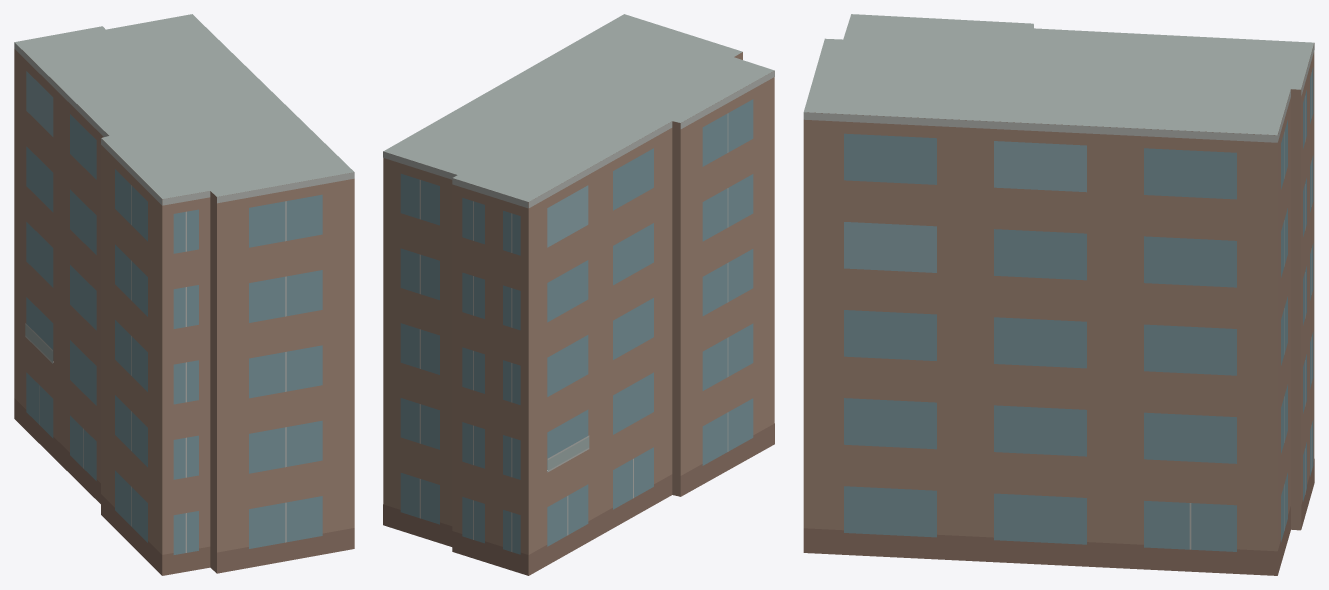
The model's file is survey-upis-32724125.glb.
3 renders of one model, left to right at view 1: azimuth 30°, elevation 25°; view 2: azimuth 150°, elevation 25°; view 3: azimuth 270°, elevation 25°, orthographic. The views are drawn at different scales.
Visible parts, largest first — view 1: survey-upis-32724125.tmp; view 2: survey-upis-32724125.tmp; view 3: survey-upis-32724125.tmp.
Boxes of the visible parts, bbox=[...] form: survey-upis-32724125.tmp: bbox=[14, 14, 354, 575]; survey-upis-32724125.tmp: bbox=[383, 14, 774, 575]; survey-upis-32724125.tmp: bbox=[803, 14, 1314, 575].
Bounding box in the file's own units: 8.39 × 14.2 × 14.93.
